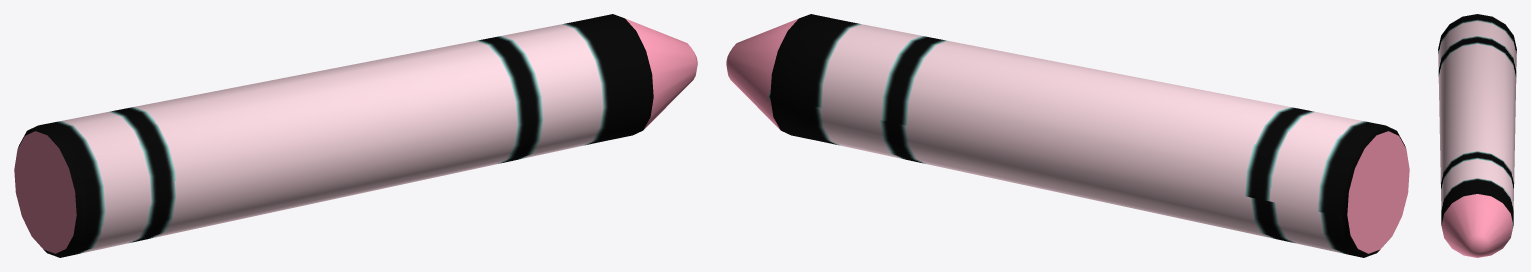
The model's file is SC_Crayons 1.fbx.
3 renders of one model, left to right at view 1: azimuth 30°, elevation 25°; view 2: azimuth 150°, elevation 25°; view 3: azimuth 270°, elevation 25°, orthographic. The views are drawn at different scales.
Visible parts, largest first — view 1: SC_Crayon; view 2: SC_Crayon; view 3: SC_Crayon.
Boxes of the visible parts, x1,y1,x2,y2 form: SC_Crayon: (14, 14, 697, 257); SC_Crayon: (726, 14, 1409, 257); SC_Crayon: (1438, 14, 1516, 257).
Size of the model in its own units: 20.68 by 4.26 by 3.72.
